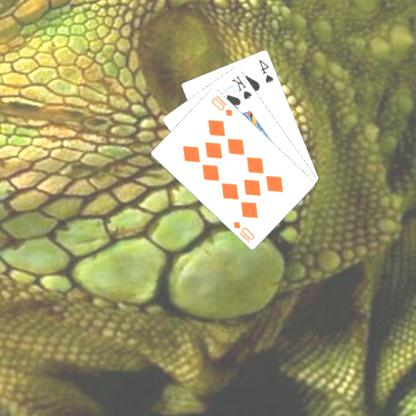10D: (232, 218, 258, 244), (211, 92, 236, 117)
4S: (258, 57, 277, 84)
KS: (231, 73, 256, 101)
